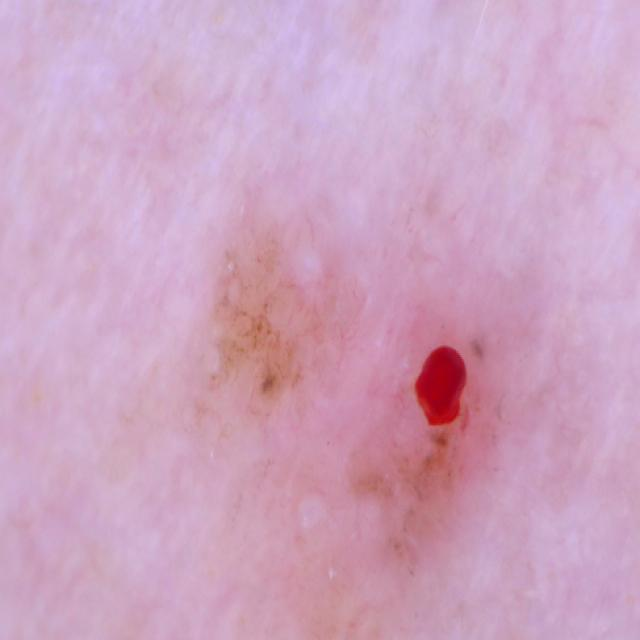Carcinoma: (187, 242, 342, 436), (400, 302, 527, 465)
